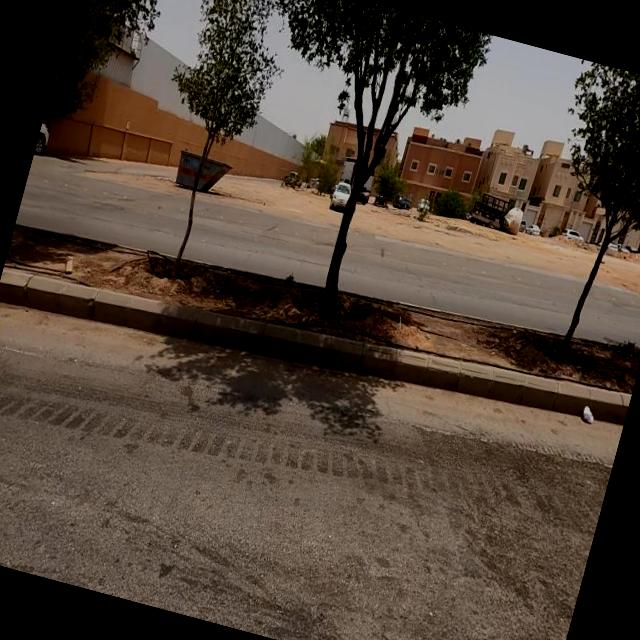debris: (530, 360, 632, 457)
